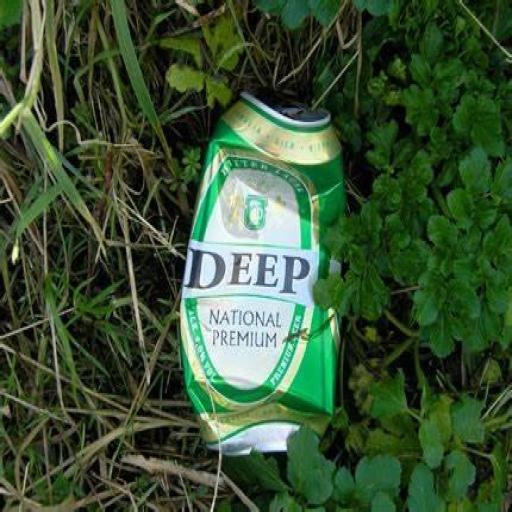can: (177, 86, 345, 456)
